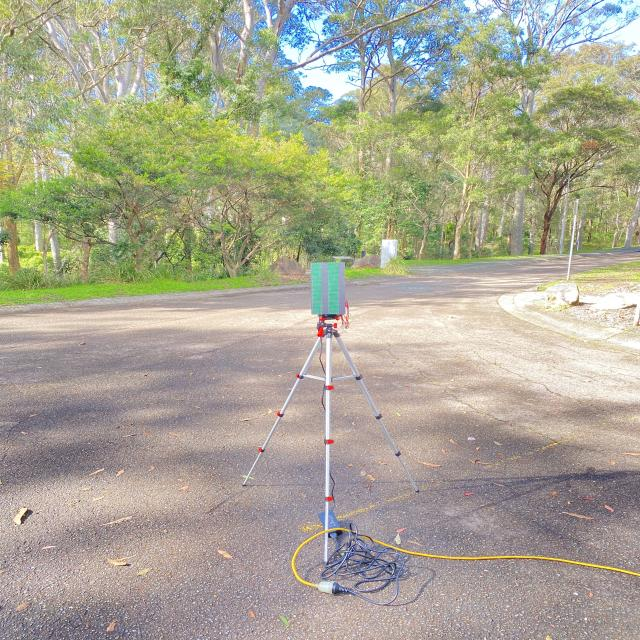matrix: (307, 262, 348, 316)
